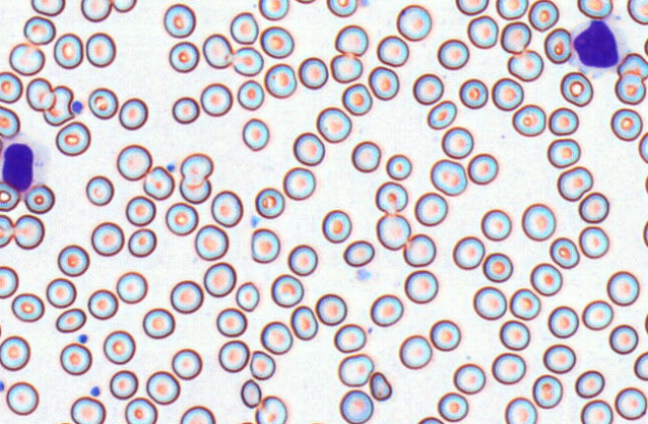MONO: (0, 133, 49, 194), (569, 18, 623, 73)
PLT: (71, 99, 88, 115), (166, 160, 180, 173), (77, 332, 89, 344), (89, 385, 100, 398), (250, 214, 261, 227), (0, 380, 6, 394)
RBC: (429, 158, 467, 196), (116, 143, 152, 181), (521, 202, 555, 241), (556, 166, 593, 201), (316, 106, 351, 143), (396, 4, 431, 41), (376, 213, 410, 250), (210, 189, 243, 227), (55, 121, 90, 156), (472, 285, 507, 320), (194, 224, 228, 260), (8, 42, 45, 75), (145, 370, 180, 404), (398, 334, 432, 369), (90, 221, 124, 256), (559, 71, 593, 106), (203, 261, 236, 297), (337, 353, 373, 386), (606, 270, 639, 306), (404, 269, 438, 303), (5, 381, 39, 415), (339, 389, 373, 423), (180, 152, 213, 187), (511, 103, 546, 136), (414, 191, 447, 226), (292, 131, 325, 166), (259, 25, 294, 58), (163, 3, 196, 38), (507, 49, 543, 81), (259, 320, 292, 354), (402, 233, 435, 267), (170, 279, 203, 313), (369, 293, 403, 326), (270, 273, 303, 307), (614, 386, 647, 420), (529, 262, 562, 296), (282, 166, 315, 200), (142, 165, 174, 200), (103, 329, 135, 364), (264, 63, 296, 98), (53, 32, 83, 69), (165, 202, 198, 235), (59, 342, 92, 375), (452, 235, 484, 269), (491, 352, 525, 384), (610, 107, 642, 141), (491, 77, 523, 111), (334, 24, 368, 56), (200, 82, 232, 116), (13, 214, 44, 249), (85, 32, 116, 67), (202, 33, 233, 68), (368, 65, 399, 100), (0, 335, 30, 371), (250, 227, 280, 263), (614, 72, 646, 105), (142, 307, 175, 339), (547, 305, 579, 338), (543, 27, 572, 63), (57, 244, 89, 276), (441, 126, 473, 158), (315, 293, 347, 325), (375, 181, 407, 213), (437, 38, 469, 70), (376, 34, 408, 66), (467, 15, 498, 48), (218, 339, 249, 372), (500, 21, 531, 54), (480, 208, 511, 241), (116, 271, 147, 304), (452, 363, 485, 394), (509, 287, 540, 320), (341, 82, 372, 115), (297, 56, 328, 89), (578, 225, 609, 258), (25, 77, 55, 111), (532, 374, 562, 408), (546, 138, 580, 168), (321, 209, 351, 243), (87, 288, 118, 320), (581, 299, 613, 330), (171, 348, 202, 380), (467, 152, 498, 184), (429, 319, 460, 351), (578, 191, 609, 223), (87, 87, 118, 119), (11, 292, 44, 322), (329, 53, 362, 83), (542, 343, 575, 373), (118, 97, 148, 130), (333, 323, 366, 353), (290, 305, 318, 340), (45, 277, 76, 308), (24, 183, 55, 214), (499, 319, 530, 350), (528, 0, 559, 31), (412, 73, 443, 104), (254, 187, 285, 218), (168, 41, 199, 72), (23, 15, 55, 45), (549, 236, 579, 268), (287, 244, 317, 276), (229, 11, 258, 44), (70, 396, 105, 423), (232, 46, 263, 76), (125, 195, 155, 226), (216, 307, 247, 337), (437, 391, 468, 421), (458, 78, 488, 109), (85, 174, 114, 206), (351, 140, 380, 172), (254, 395, 287, 423), (242, 117, 269, 151), (608, 324, 638, 354), (482, 252, 512, 282), (426, 99, 456, 129), (342, 239, 374, 267), (504, 396, 537, 423), (109, 369, 138, 399), (127, 227, 156, 257), (574, 369, 604, 398), (548, 106, 578, 135), (179, 177, 211, 204), (124, 397, 157, 423), (237, 79, 264, 110), (55, 307, 86, 333), (580, 399, 613, 423), (171, 96, 199, 124), (249, 350, 275, 380), (0, 71, 23, 103), (235, 281, 259, 311), (385, 153, 411, 180), (80, 0, 111, 22), (577, 0, 612, 19), (495, 0, 528, 20), (0, 105, 20, 138), (179, 405, 215, 423), (0, 180, 20, 211), (258, 0, 288, 20), (0, 265, 18, 298), (30, 0, 65, 16), (326, 0, 357, 17), (627, 0, 647, 25), (455, 0, 488, 15), (0, 213, 14, 247), (633, 351, 647, 380), (112, 0, 137, 12), (638, 131, 647, 163), (416, 416, 443, 423), (642, 218, 648, 248), (0, 133, 4, 161), (643, 36, 648, 57), (644, 310, 648, 335), (294, 0, 317, 4), (644, 173, 648, 195), (234, 420, 254, 424), (180, 0, 204, 2)
Schistocyte: (41, 85, 76, 126), (369, 370, 393, 402), (618, 54, 648, 78), (240, 379, 262, 409)
